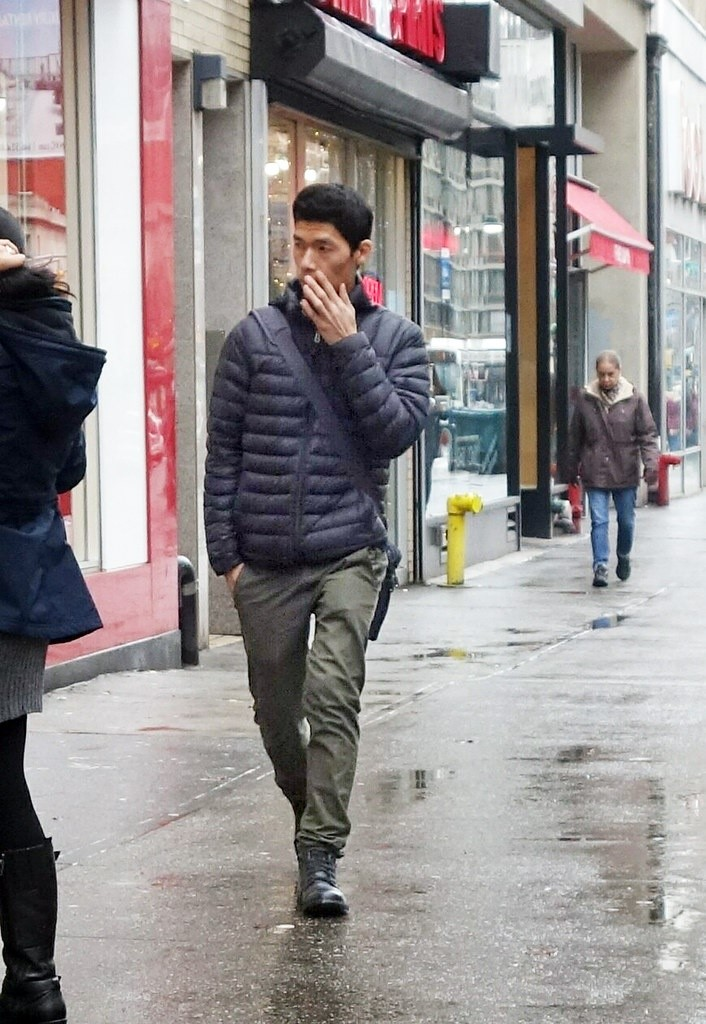face_no_mask: (287, 183, 372, 301), (595, 354, 620, 393)
